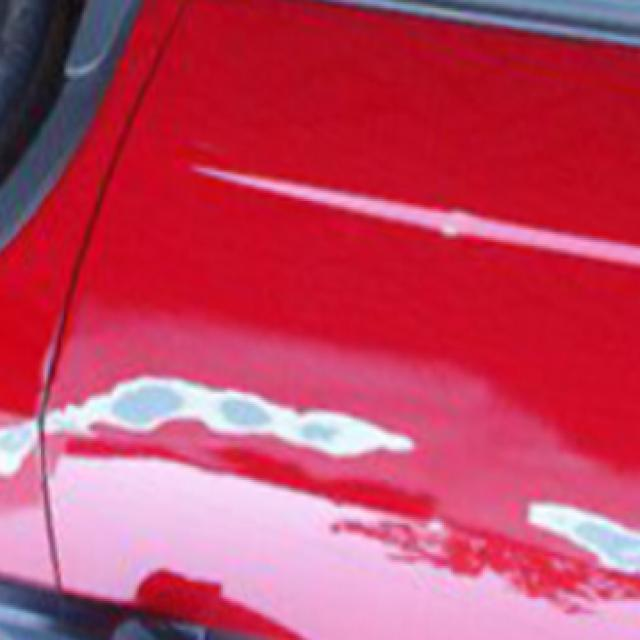scratch: (0, 363, 428, 492), (519, 473, 640, 592)
